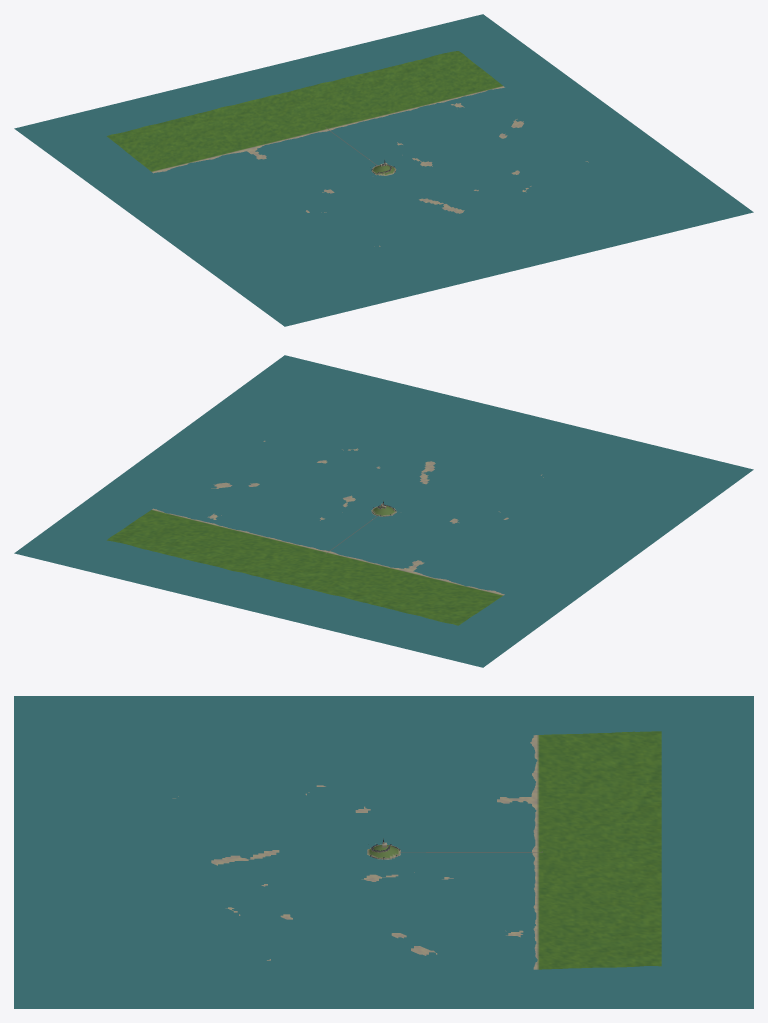
File: world.glb
3 renders of one model, top to bottom at view 1: azimuth 30°, elevation 25°; view 2: azimuth 150°, elevation 25°; view 3: azimuth 270°, elevation 25°, orthographic. The views are drawn at different scales.
Parts seen in each view (by area): view 1: Ocean, Terrain; view 2: Ocean, Terrain; view 3: Ocean, Terrain.
Part boxes in pixels (bbox=[...]): Ocean: bbox=[14, 14, 753, 326]; Terrain: bbox=[107, 51, 588, 246]; Ocean: bbox=[14, 355, 753, 667]; Terrain: bbox=[107, 440, 543, 625]; Ocean: bbox=[14, 696, 753, 1008]; Terrain: bbox=[172, 731, 661, 969].
Bounding box in the file's own units: 8000 × 179 × 8000.
